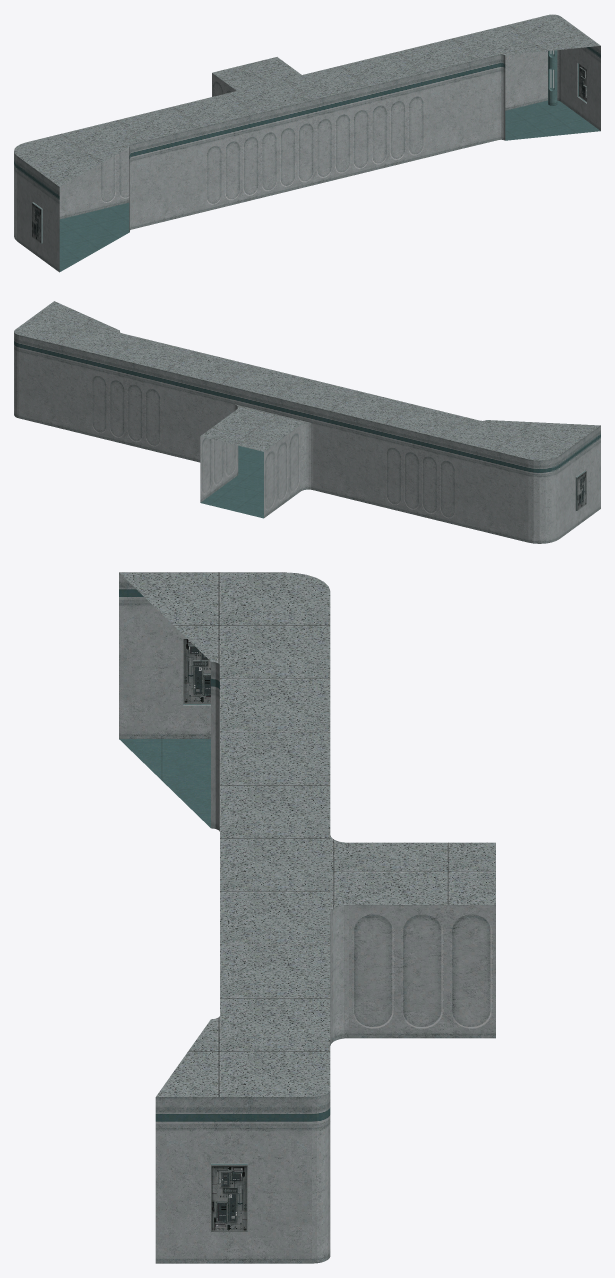
The model's file is mun_corl_hospital_s01_r5_entryc_mesh_r5.fbx.
The picture shows the model from 3 angles, top to bottom: view 1: azimuth 30°, elevation 25°; view 2: azimuth 150°, elevation 25°; view 3: azimuth 270°, elevation 25°; orthographic projection. The views are drawn at different scales.
Parts seen in each view (by area): view 1: mesh_node; view 2: mesh_node; view 3: mesh_node.
Boxes of the visible parts, left/top/right/bottom form: mesh_node: left=14, top=14, right=600, bottom=272; mesh_node: left=14, top=301, right=600, bottom=543; mesh_node: left=119, top=572, right=495, bottom=1263.
Bounding box in the file's own units: 33.96 × 5 × 10.25.
